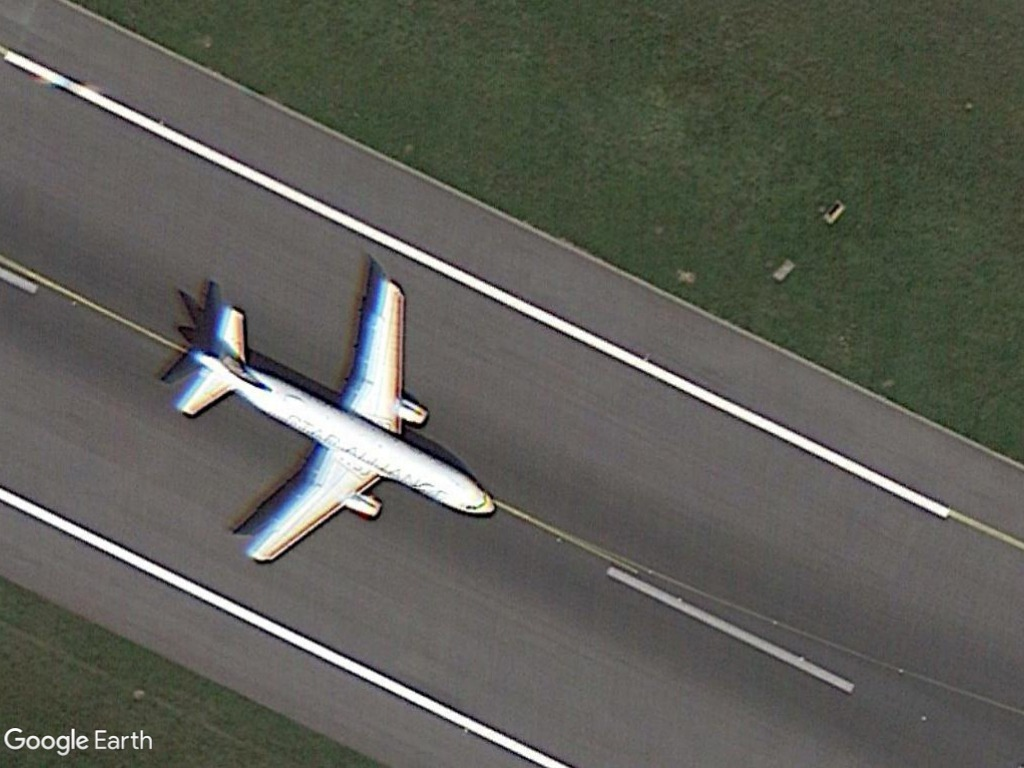airliner: (174, 275, 499, 568)
